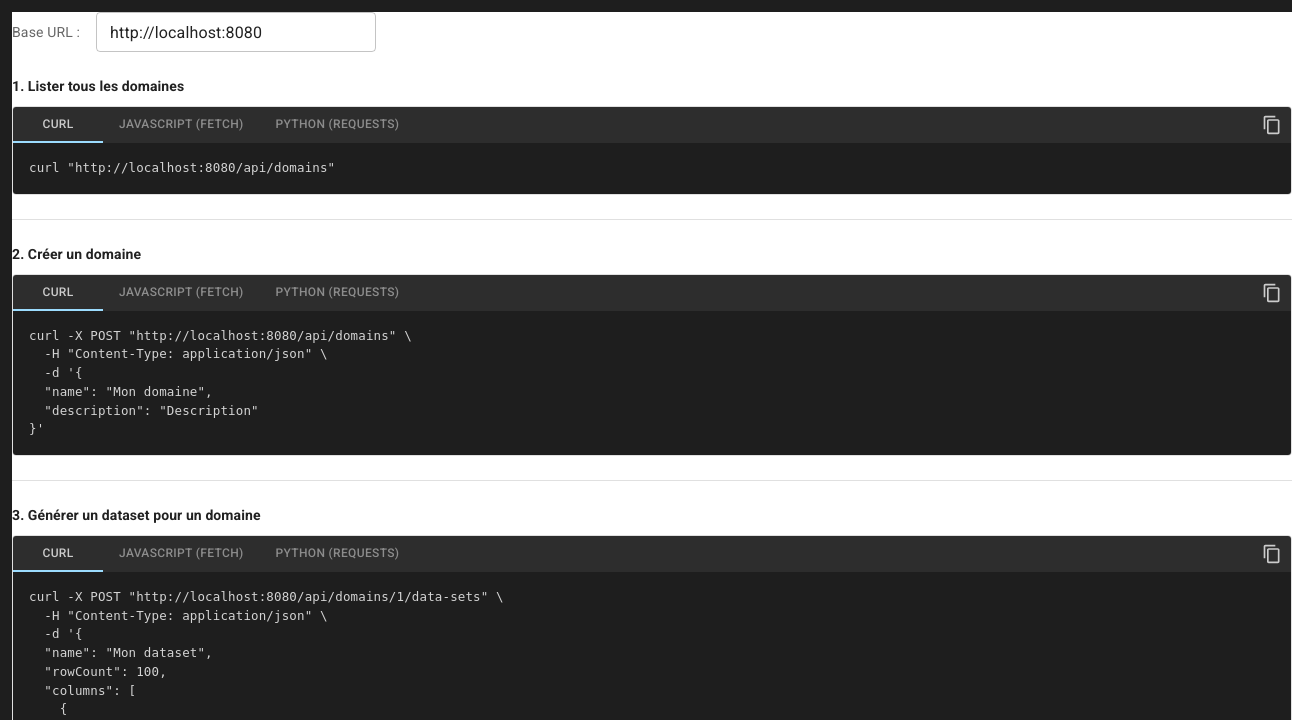
Test: GuideTab › updates snippets when BASE_URL changes
The width and height of the screenshot is (1292, 720).
Replace the text in the field showing "http://localhost:8080" with "https://api.myapp.com": (236, 32) x1=96 y1=12 x2=376 y2=52
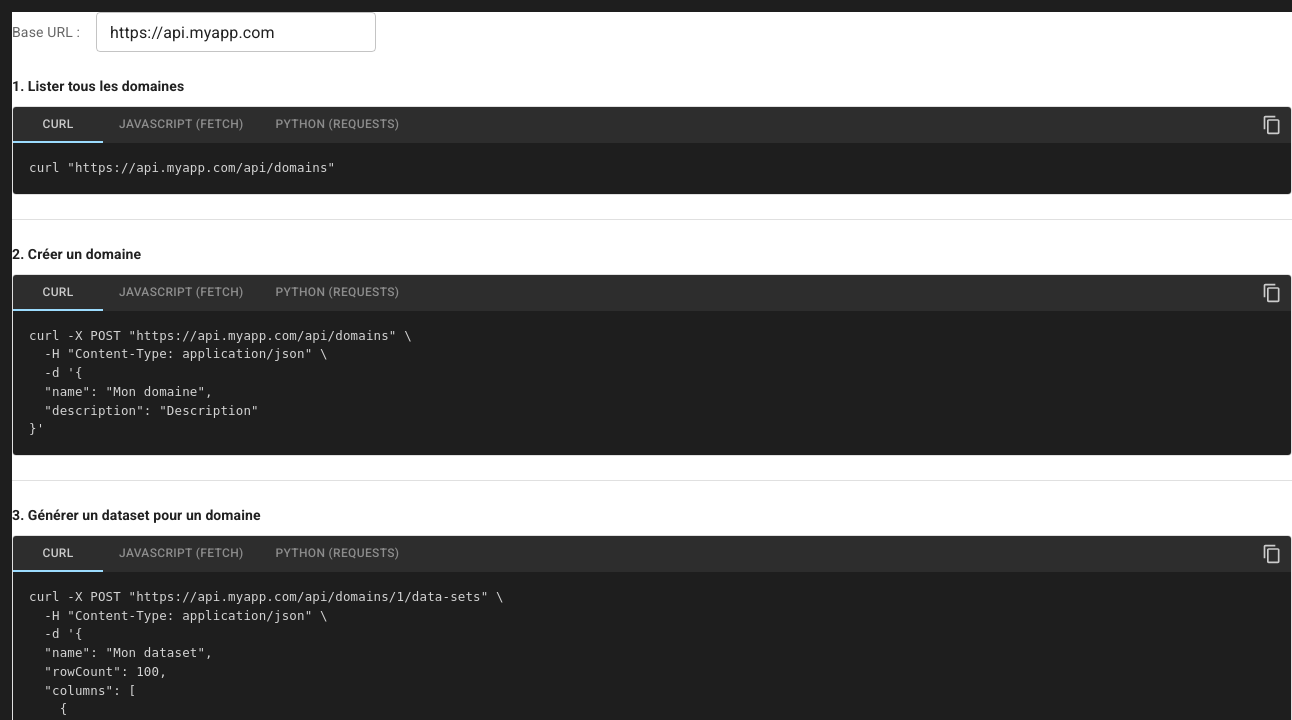
Expected: the text "curl \"https://api.myapp.com/api/domains\"" is shown, x1=13 y1=143 x2=1291 y2=194
